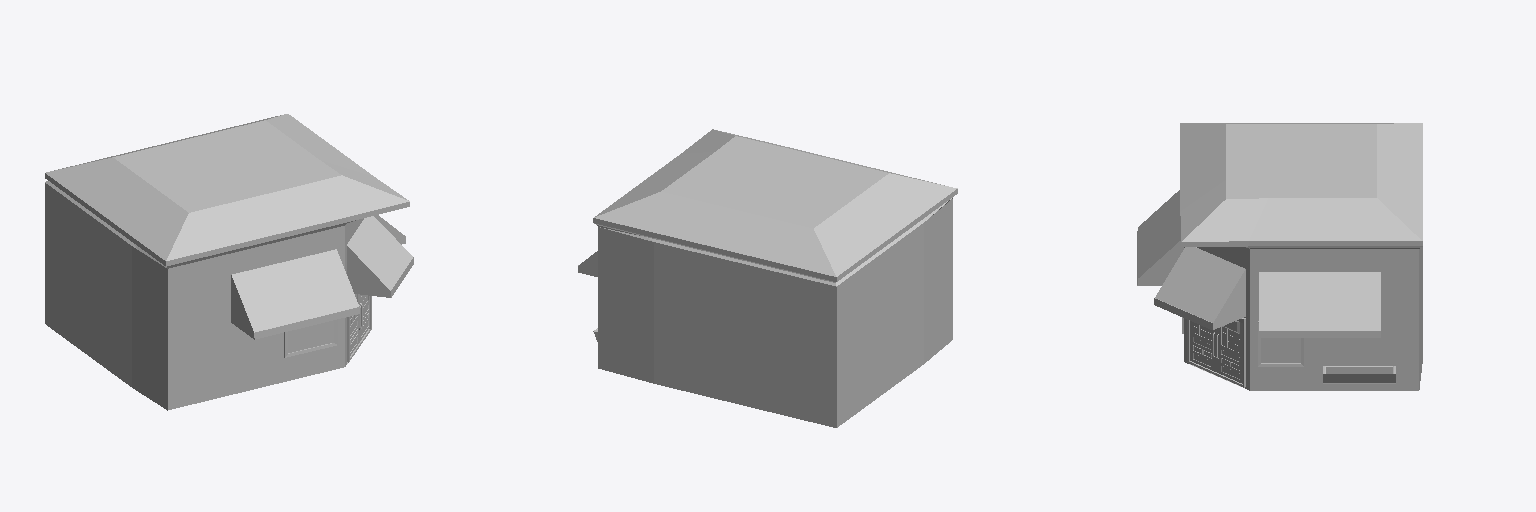
File: Pizza_Place.obj
3 views of the same model, side by side, from view 1: azimuth 30°, elevation 25°; view 2: azimuth 150°, elevation 25°; view 3: azimuth 270°, elevation 25° (orthographic).
Visible parts, largest first — view 1: Pizza_Place Buildings, Pizza_Place Buildings Cover2, Pizza_Place Buildings Cover3, Pizza_Place Buildings Windows Glass_Wall2, Pizza_Place Buildings Double_Door; view 2: Pizza_Place Buildings; view 3: Pizza_Place Buildings, Pizza_Place Buildings Cover1, Pizza_Place Buildings Cover3, Pizza_Place Buildings Cover2, Pizza_Place Buildings Double_Door, Pizza_Place Buildings Windows Glass_Wall1, Pizza_Place Buildings Planter_Box, Pizza_Place Buildings Double_Door_Frame.
Boxes of the visible parts, x1,y1,x2,y2 form: Pizza_Place Buildings: [45, 114, 409, 410]; Pizza_Place Buildings Cover2: [231, 249, 359, 339]; Pizza_Place Buildings Cover3: [347, 216, 413, 297]; Pizza_Place Buildings Windows Glass_Wall2: [288, 320, 333, 352]; Pizza_Place Buildings Double_Door: [350, 294, 369, 355]; Pizza_Place Buildings: [593, 129, 957, 427]; Pizza_Place Buildings: [1180, 123, 1422, 390]; Pizza_Place Buildings Cover1: [1259, 272, 1380, 337]; Pizza_Place Buildings Cover3: [1154, 247, 1245, 329]; Pizza_Place Buildings Cover2: [1137, 190, 1183, 285]; Pizza_Place Buildings Double_Door: [1190, 321, 1242, 383]; Pizza_Place Buildings Windows Glass_Wall1: [1261, 338, 1300, 362]; Pizza_Place Buildings Planter_Box: [1323, 366, 1395, 383]; Pizza_Place Buildings Double_Door_Frame: [1187, 318, 1245, 387].
Bounding box in the file's own units: 60.95 × 35.79 × 53.82.